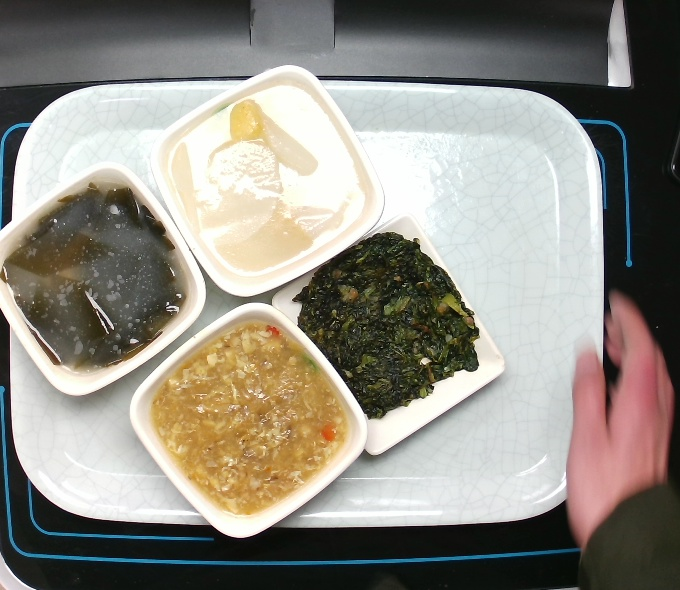wcq-HaiDaiPaiGuTang: (3, 186, 183, 371)
wcq-LuoBoYouPaoTang: (162, 81, 368, 276)
wcq-QinCaiBing: (294, 229, 483, 422)
wcq-SuanLaGeng: (154, 321, 347, 513)
